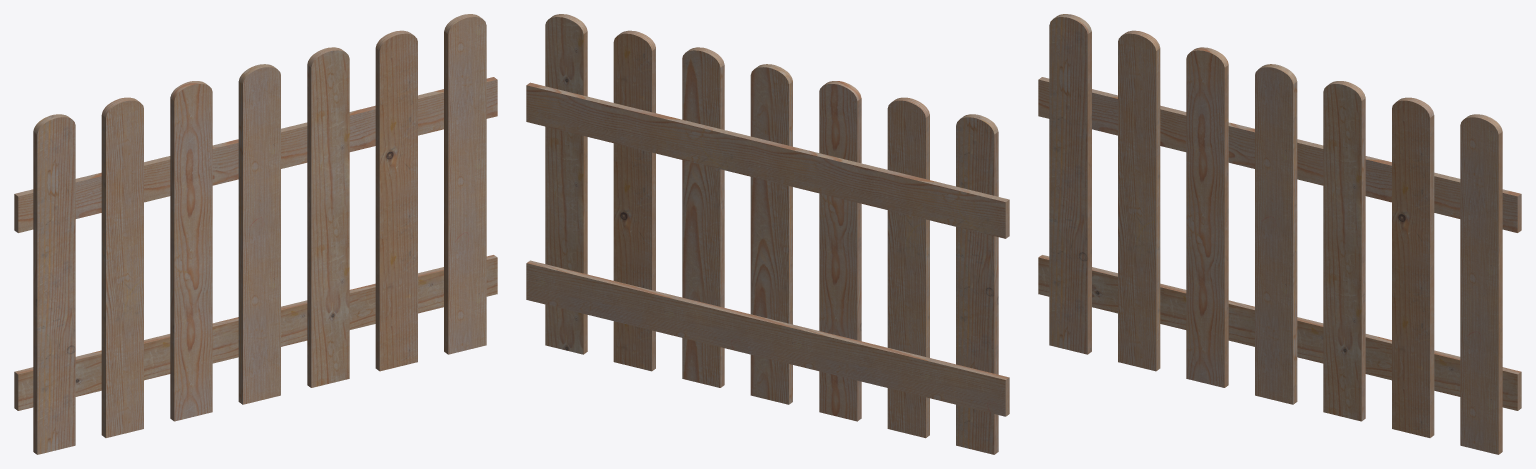
The model's file is WoodeFence.fbx.
3 views of the same model, side by side, from view 1: azimuth 30°, elevation 25°; view 2: azimuth 150°, elevation 25°; view 3: azimuth 330°, elevation 25° (orthographic).
Parts seen in each view (by area): view 1: WoodFence; view 2: WoodFence; view 3: WoodFence.
Boxes of the visible parts, box(x1,y1,x2,y2) form: WoodFence: box(14, 14, 497, 454); WoodFence: box(526, 14, 1009, 454); WoodFence: box(1038, 14, 1521, 454).
Bounding box in the file's own units: 59.18 × 39.2 × 1.67.
